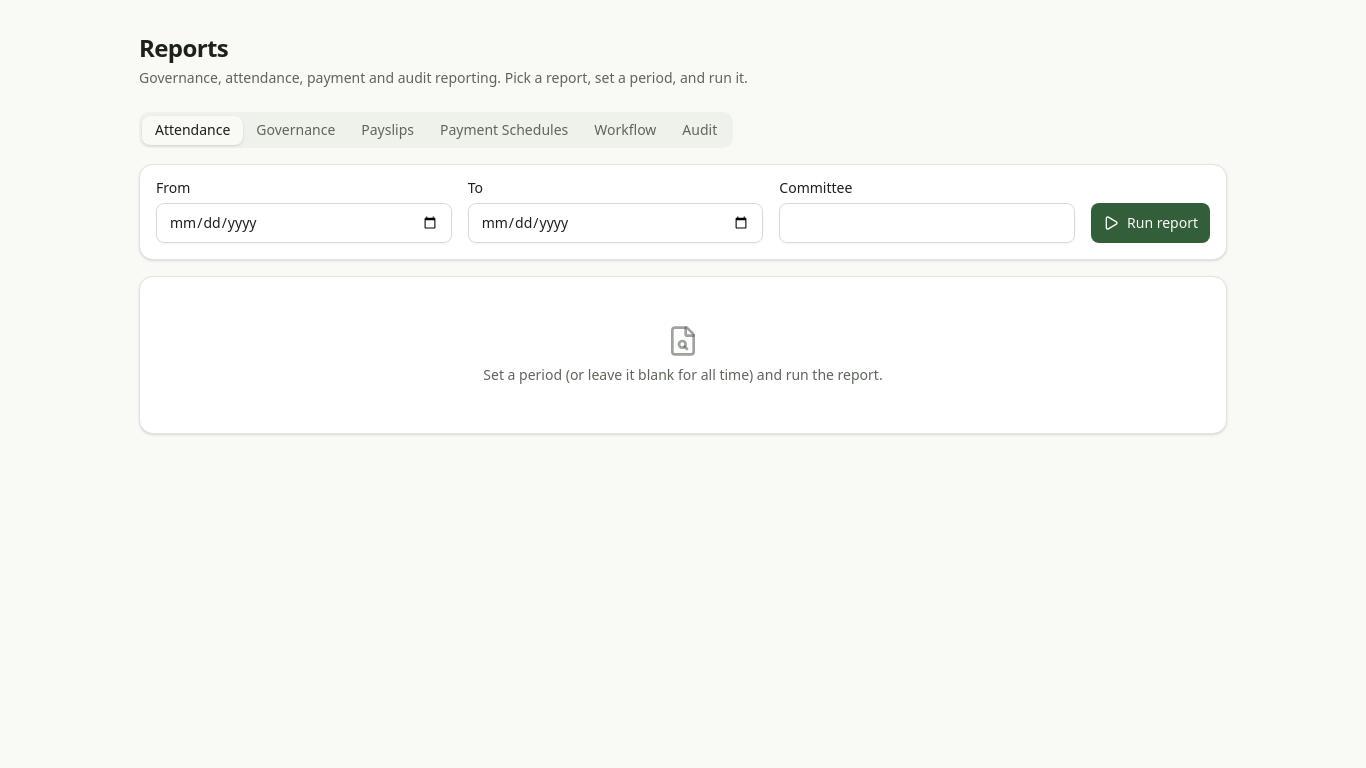
Test: StaffReports › switches to the Governance tab and runs its own report
The image size is (1366, 768).
Click the tab "Governance": (296,130) [243,116,348,144]
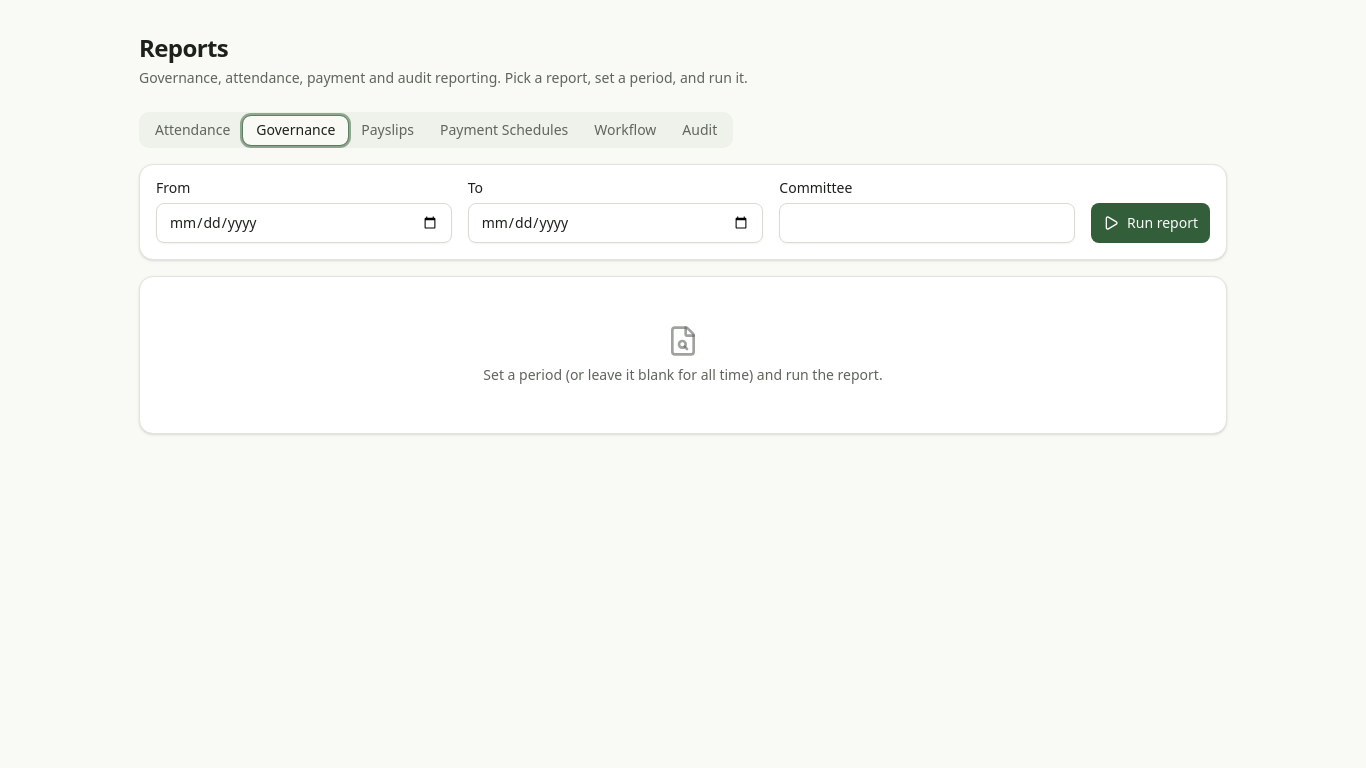
Click the button "Run report": (1150,223) [1091,203,1210,243]
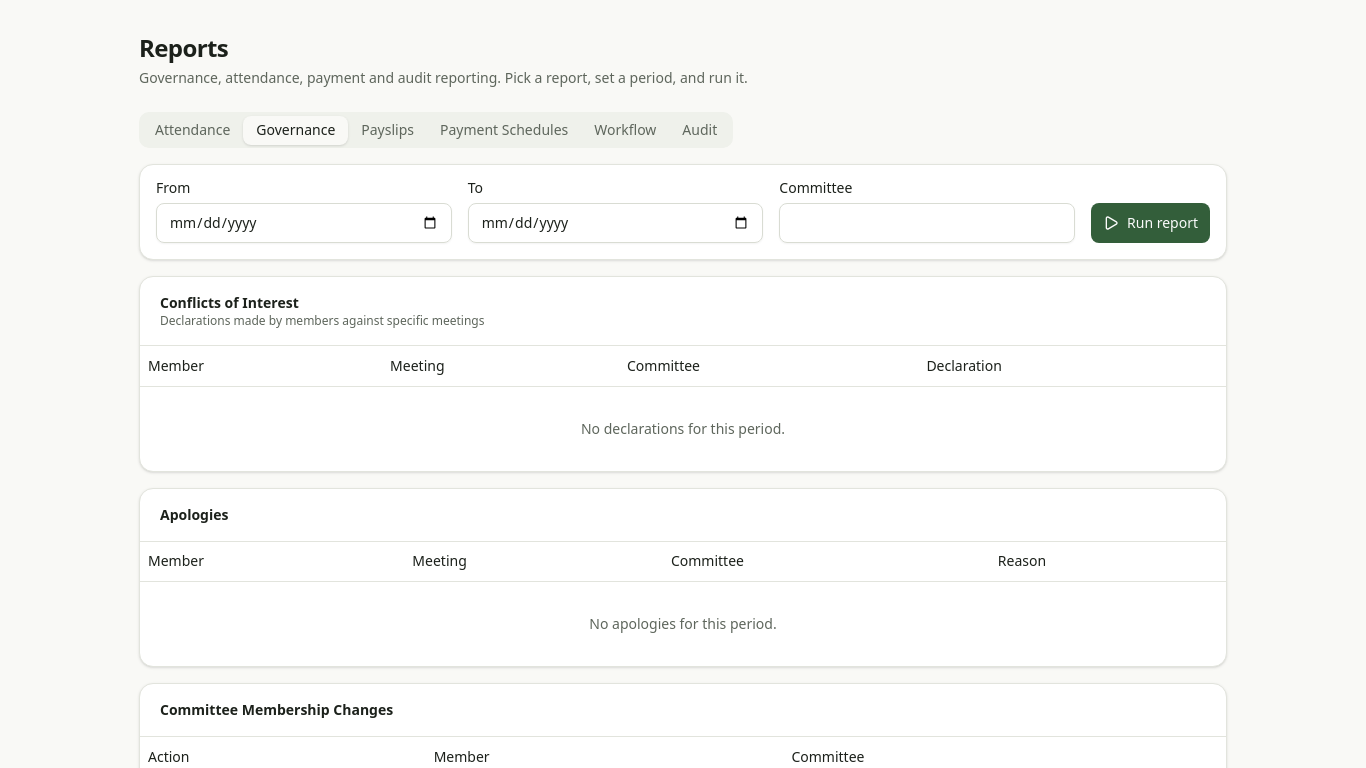
Expected: the heading "Conflicts of Interest" is shown, [160,293,299,312]
